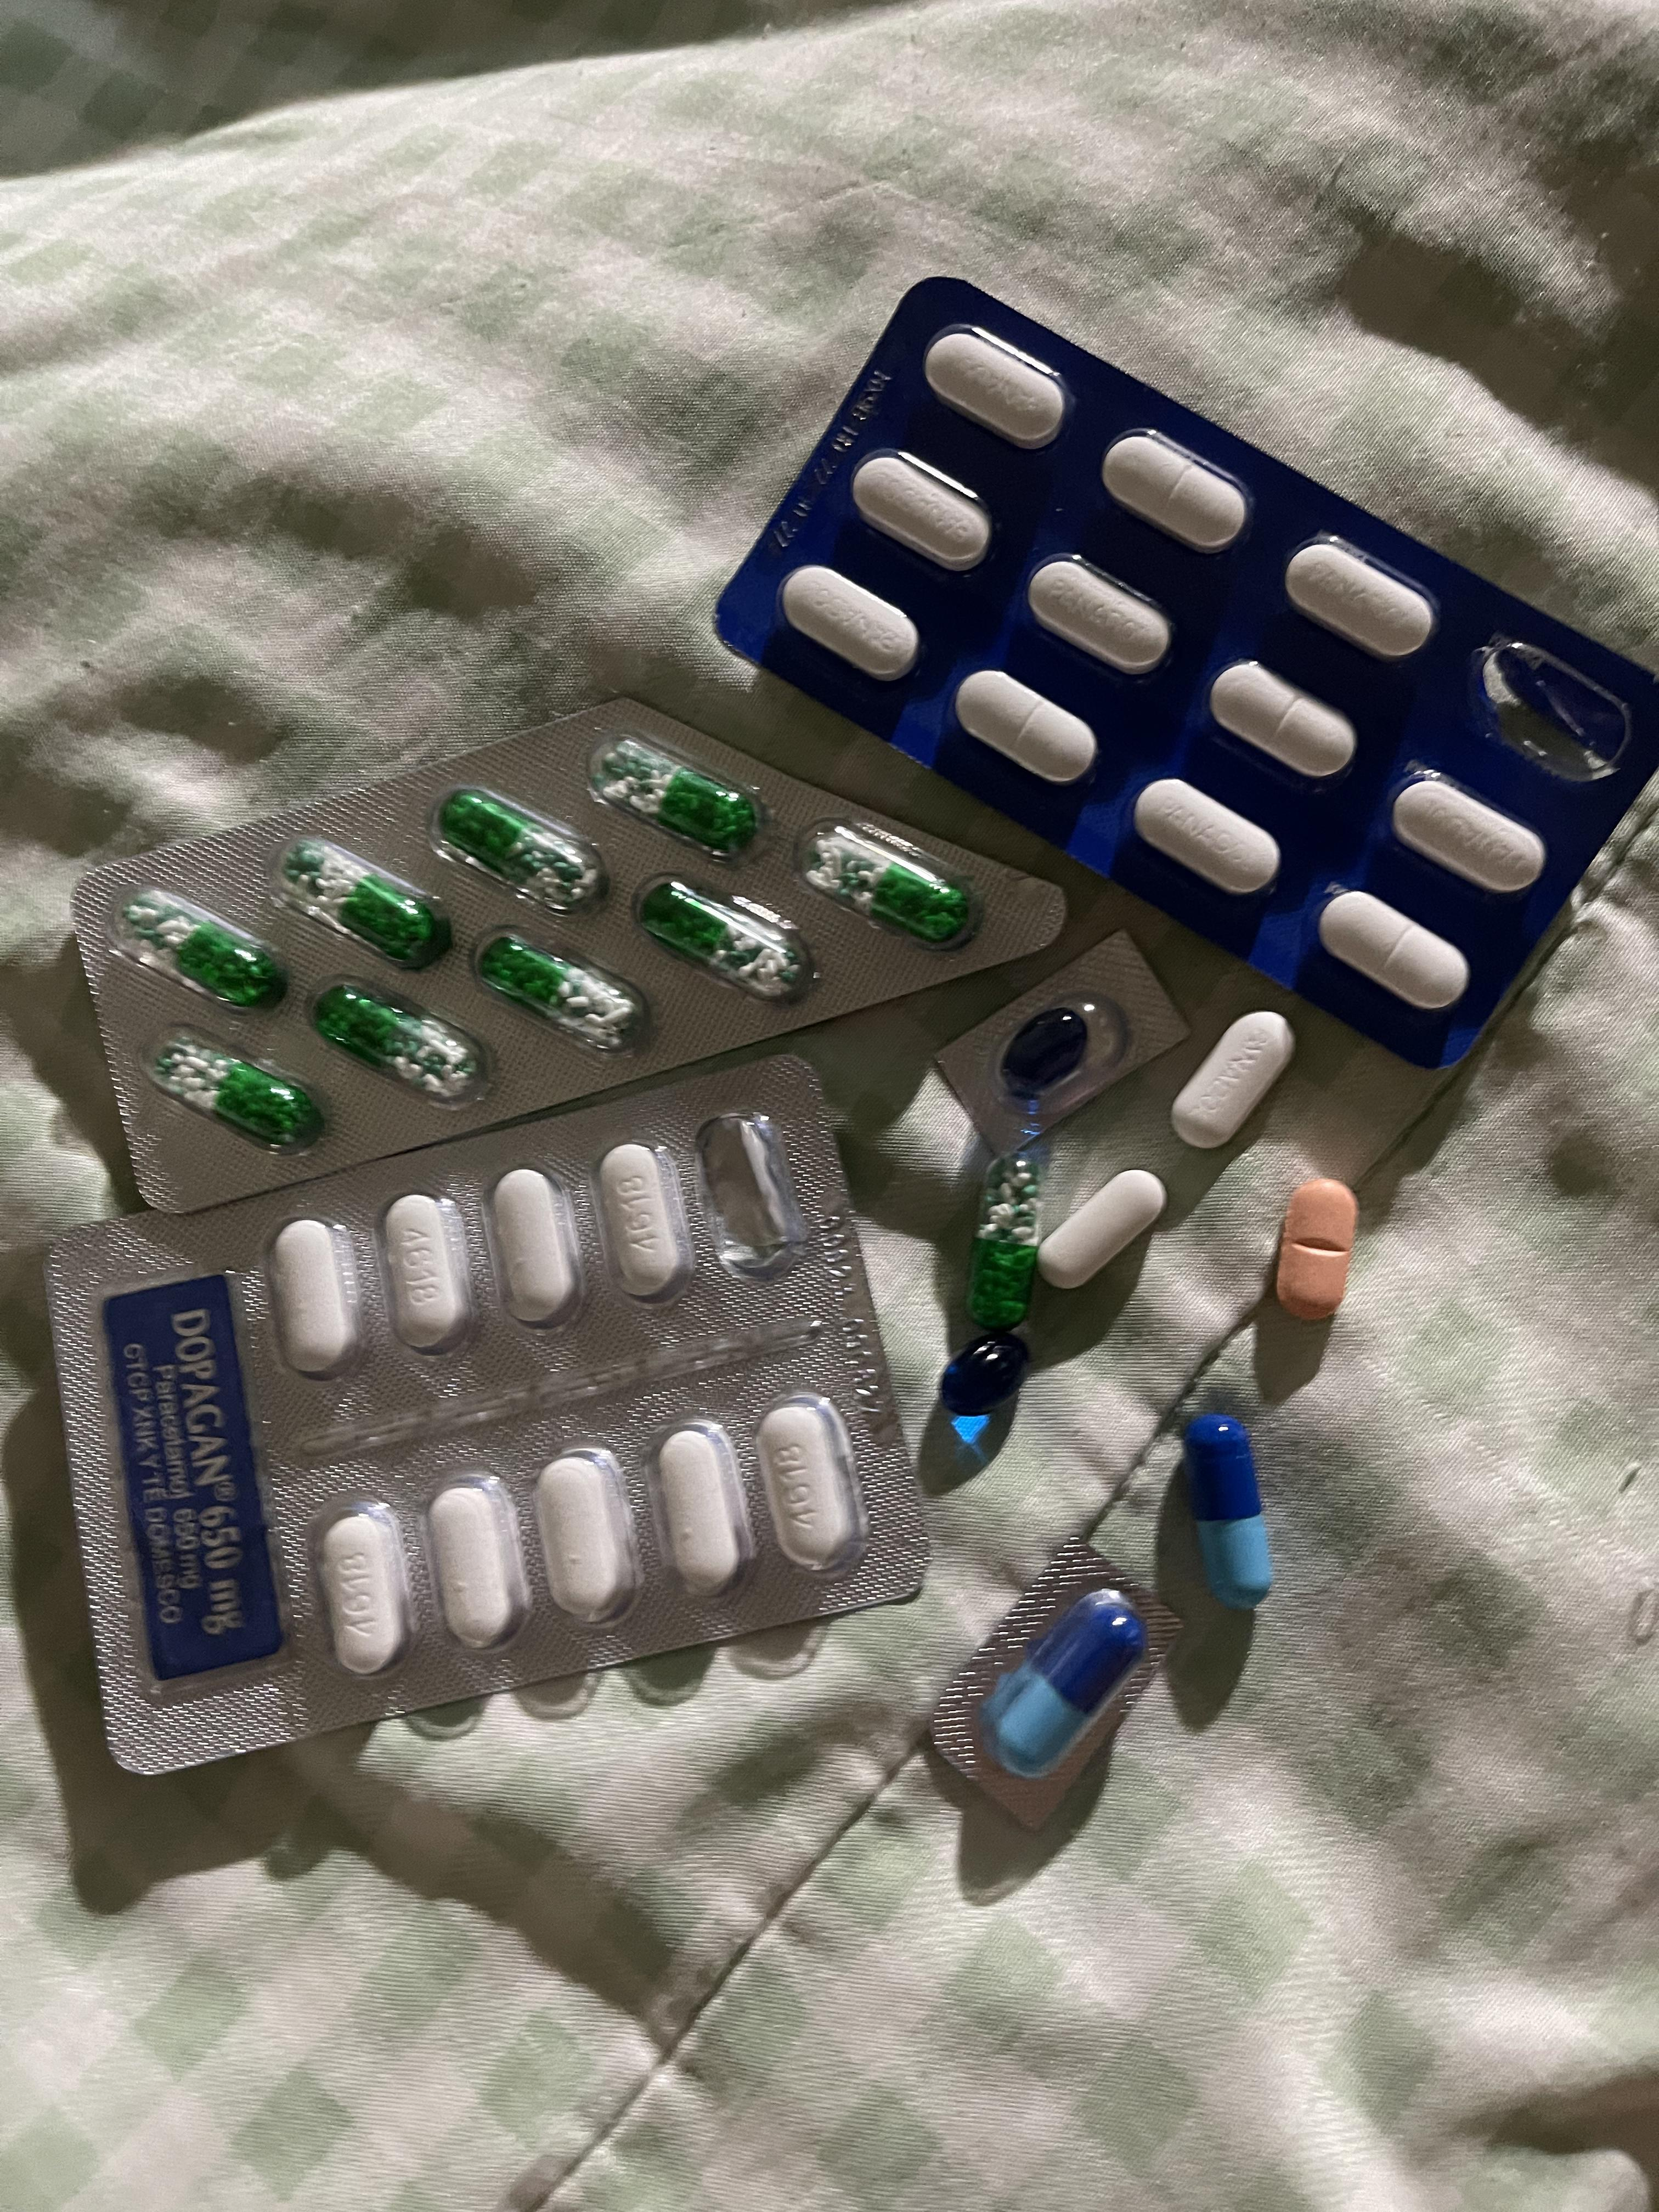Lincomyxin_500mg: (999, 1005, 1093, 1090), (938, 1331, 1030, 1416)
Loratadine_10mg: (1274, 1179, 1358, 1312)
Paracetamol_350mg: (1389, 773, 1546, 894), (1286, 536, 1438, 657), (1103, 432, 1253, 552), (1317, 895, 1469, 1010), (1209, 660, 1358, 777), (1134, 779, 1283, 895), (924, 327, 1066, 448), (854, 451, 995, 571), (1028, 559, 1173, 676), (1171, 1012, 1298, 1144), (781, 564, 917, 679), (955, 671, 1094, 782)
Paracetamol_500mg: (756, 1399, 861, 1573), (535, 1449, 638, 1623), (429, 1475, 530, 1649), (655, 1425, 751, 1597), (317, 1505, 413, 1676), (1035, 1169, 1168, 1287), (380, 1191, 474, 1350), (268, 1217, 362, 1374), (490, 1170, 584, 1325), (596, 1141, 690, 1291)
Paracetamol_650mg: (282, 843, 450, 967), (641, 880, 810, 1000), (441, 791, 598, 907), (314, 986, 477, 1097), (479, 935, 641, 1045), (122, 897, 279, 1003), (153, 1043, 314, 1146), (603, 751, 756, 855), (810, 834, 958, 942), (967, 1163, 1044, 1318)
pill: (979, 1590, 1147, 1777), (1182, 1413, 1274, 1609)
